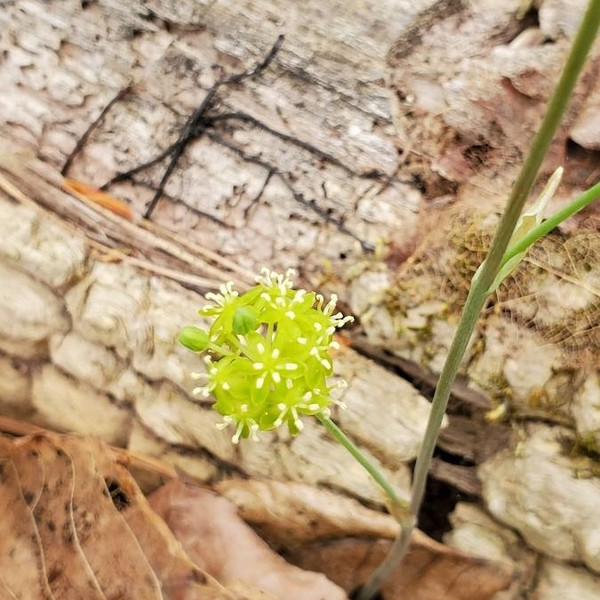obstacle: (161, 238, 422, 576)
